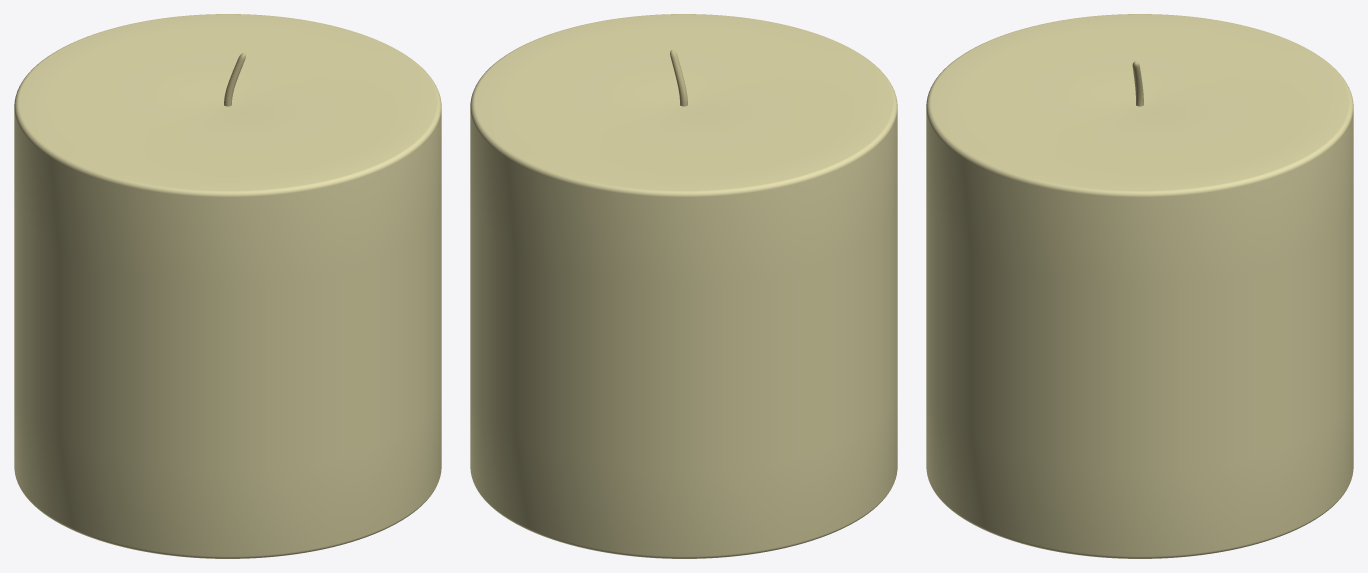
The picture shows the model from 3 angles, left to right: view 1: azimuth 30°, elevation 25°; view 2: azimuth 150°, elevation 25°; view 3: azimuth 270°, elevation 25°; orthographic projection.
Parts seen in each view (by area): view 1: part_000_Wax_body; view 2: part_000_Wax_body; view 3: part_000_Wax_body.
Part boxes in pixels (x1,y1,x2,y2): part_000_Wax_body: (14, 14, 441, 558); part_000_Wax_body: (470, 14, 897, 558); part_000_Wax_body: (926, 14, 1353, 558).
Bounding box in the file's own units: 0.078 × 0.0836 × 0.078.
